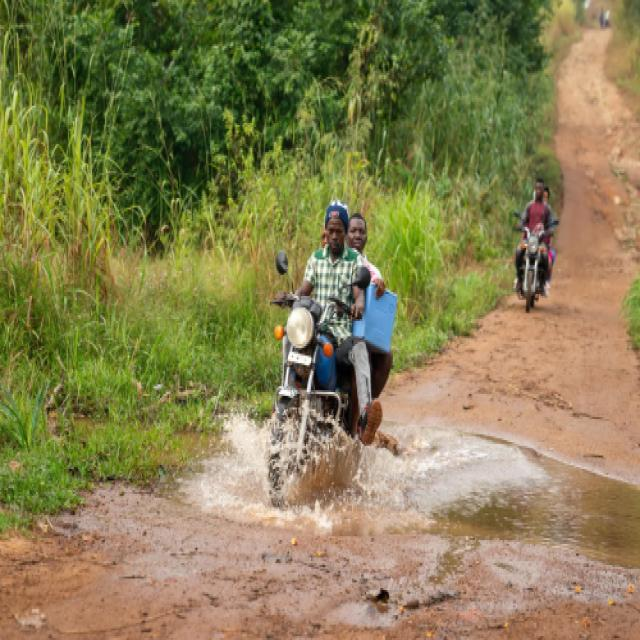Bike: (267, 294, 355, 499), (514, 224, 552, 317)
